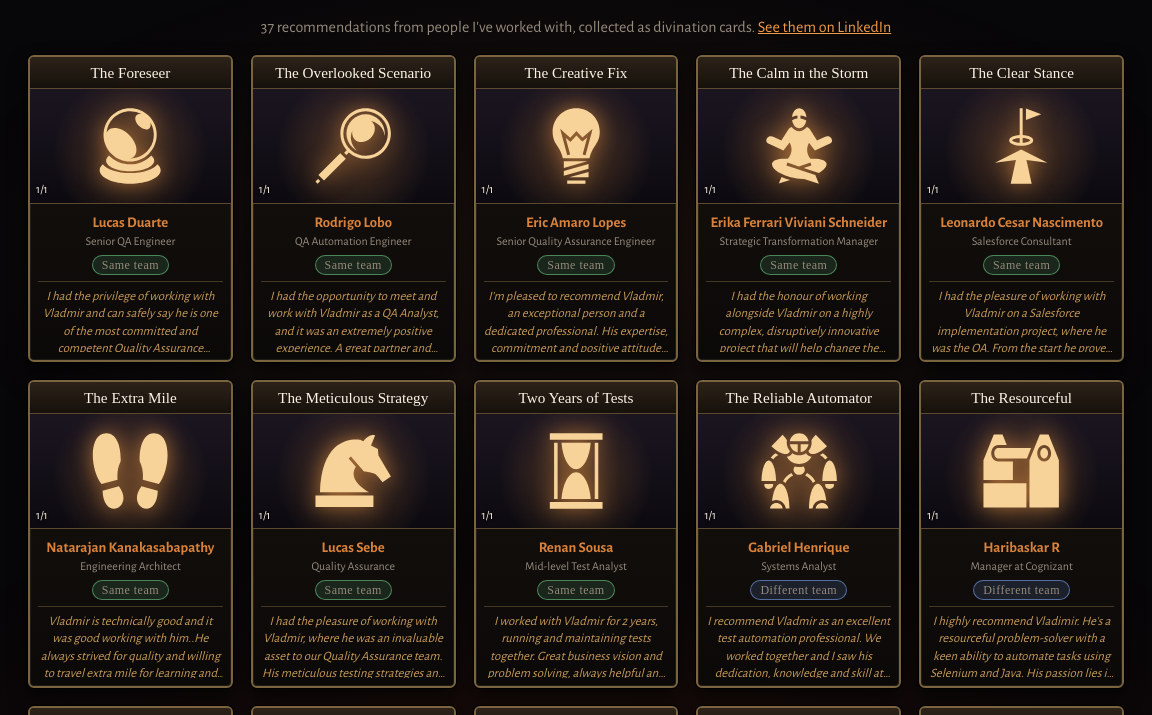
Scenario: <DivinationCards /> › a Portuguese quote is shown translated in English, with the original one click away
Click the button that starts with "The Foreseer" at coordinates (130, 209), box [28,55,233,362]
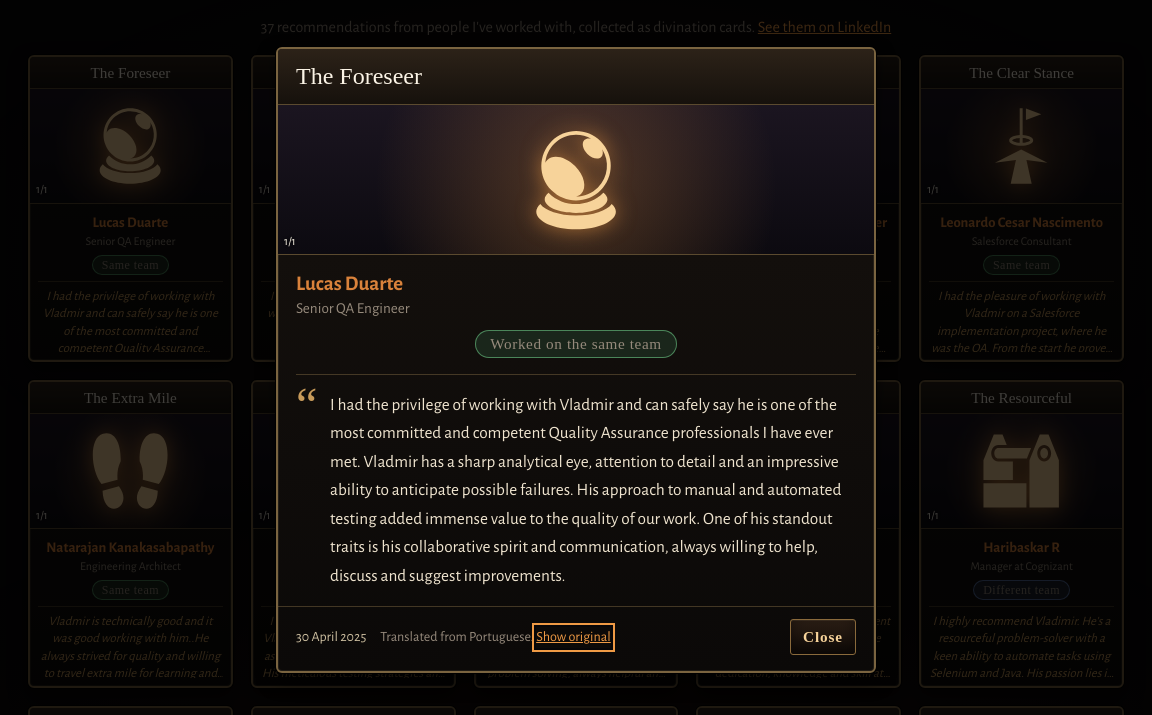
Now the text "I had the privilege of working with Vladmir and can safely say he is one of the most committed and competent Quality Ass" is shown, box [330,396,842,584]
Click the button "Show original" at coordinates (574, 637), box [536,627,611,648]
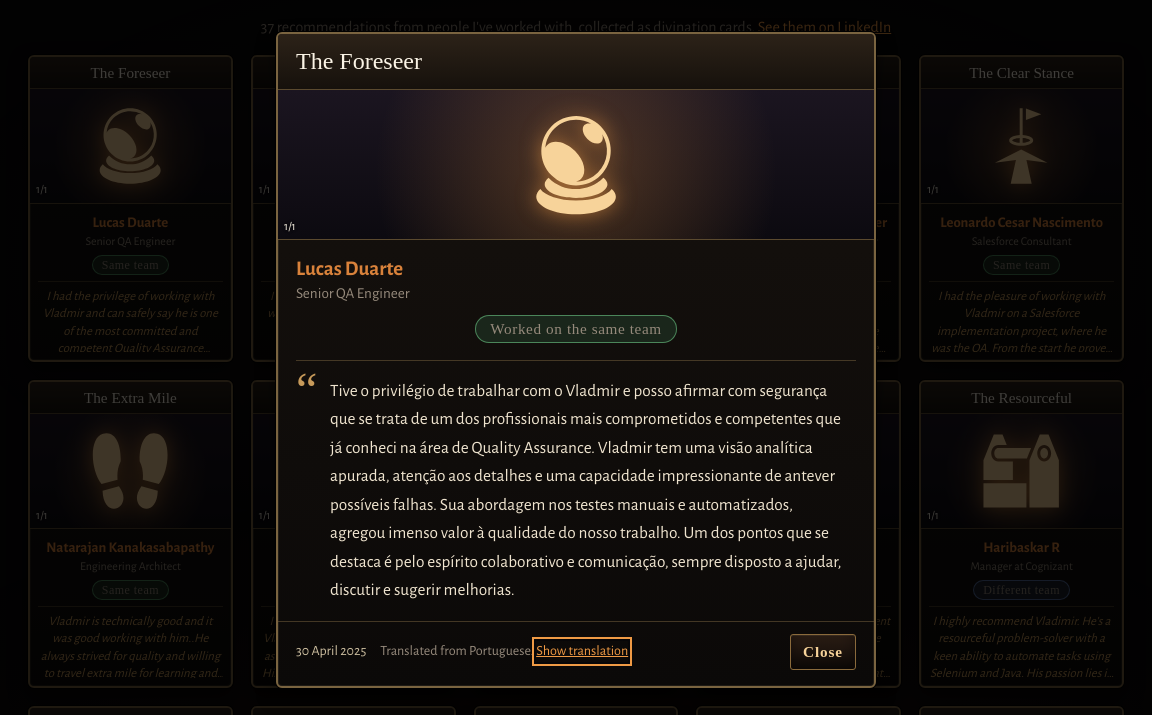
Now the text "Tive o privilégio de trabalhar com o Vladmir e posso afirmar com segurança que se trata de um dos profissionais mais com" is shown, box [330,382,841,598]
